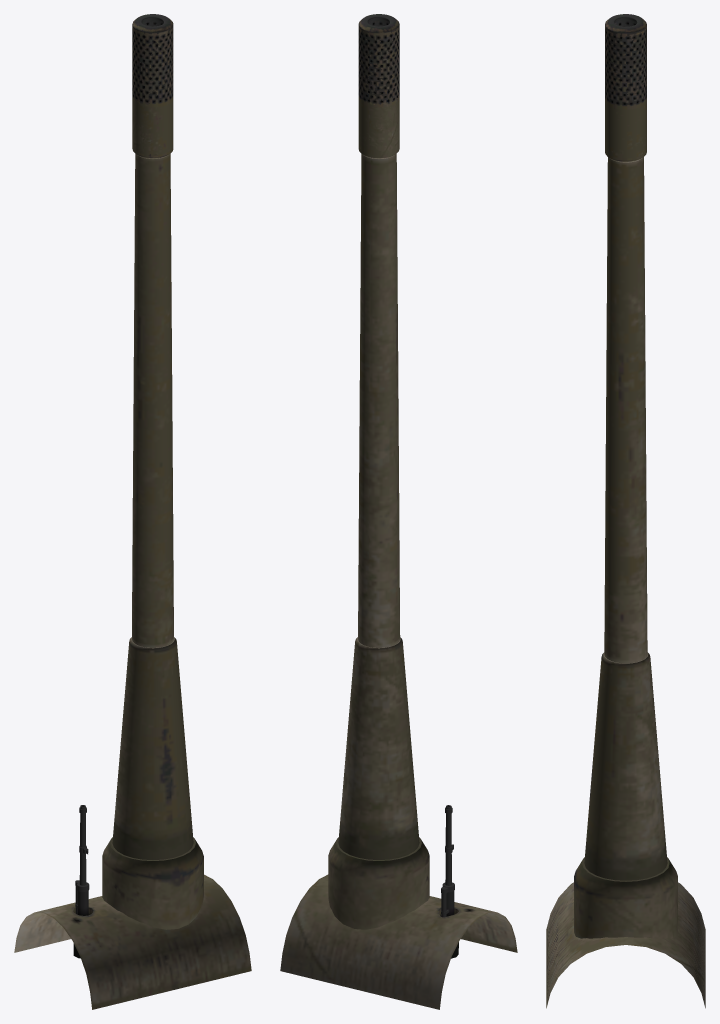
Rendered from Gun_01.glb.
3 views of the same model, side by side, from view 1: azimuth 30°, elevation 25°; view 2: azimuth 150°, elevation 25°; view 3: azimuth 270°, elevation 25° (orthographic). The views are drawn at different scales.
Parts seen in each view (by area): view 1: set_0_group_0; view 2: set_0_group_0; view 3: set_0_group_0.
Boxes of the visible parts, x1,y1,x2,y2 form: set_0_group_0: [14, 14, 251, 1009]; set_0_group_0: [280, 14, 517, 1009]; set_0_group_0: [546, 14, 705, 1008].
Bounding box in the file's own units: 0.64 × 3.59 × 0.5415.
Materials: 1 (1 with a texture image).
